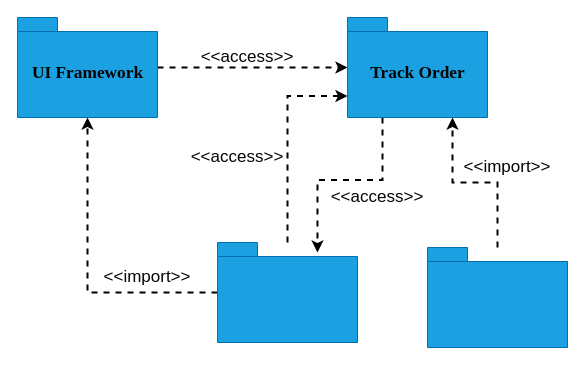
This 585x365 diagram has some shape labels left out. The shapes that lost their labels are listed below. From the top down, each one's box as (x1, y1, x2, y2) in pixels, then its label:
(216, 242, 358, 342): Order Processing
(426, 246, 568, 348): Shipping
